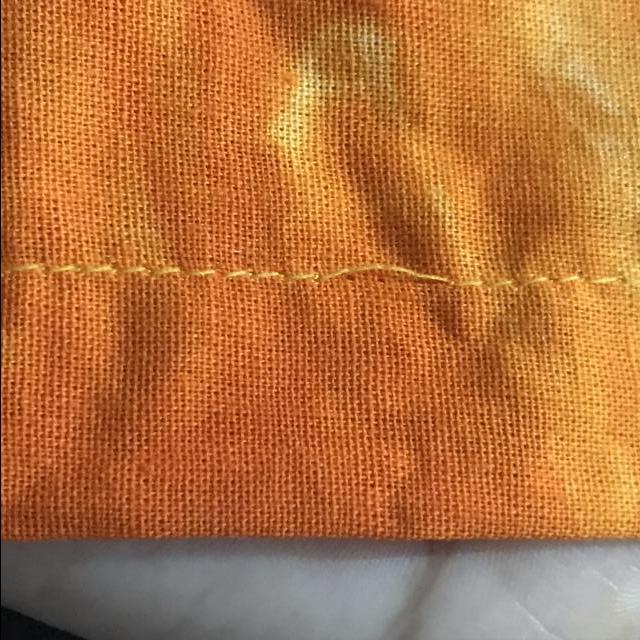Skip: (318, 242, 472, 306)
